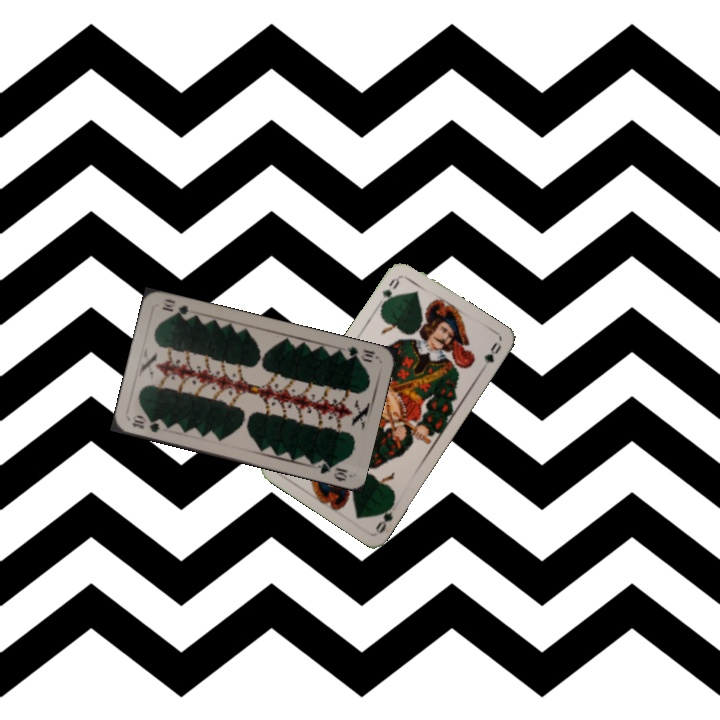G10: (338, 342, 378, 365), (127, 415, 163, 435)
GO: (371, 496, 397, 535), (376, 273, 402, 310)
